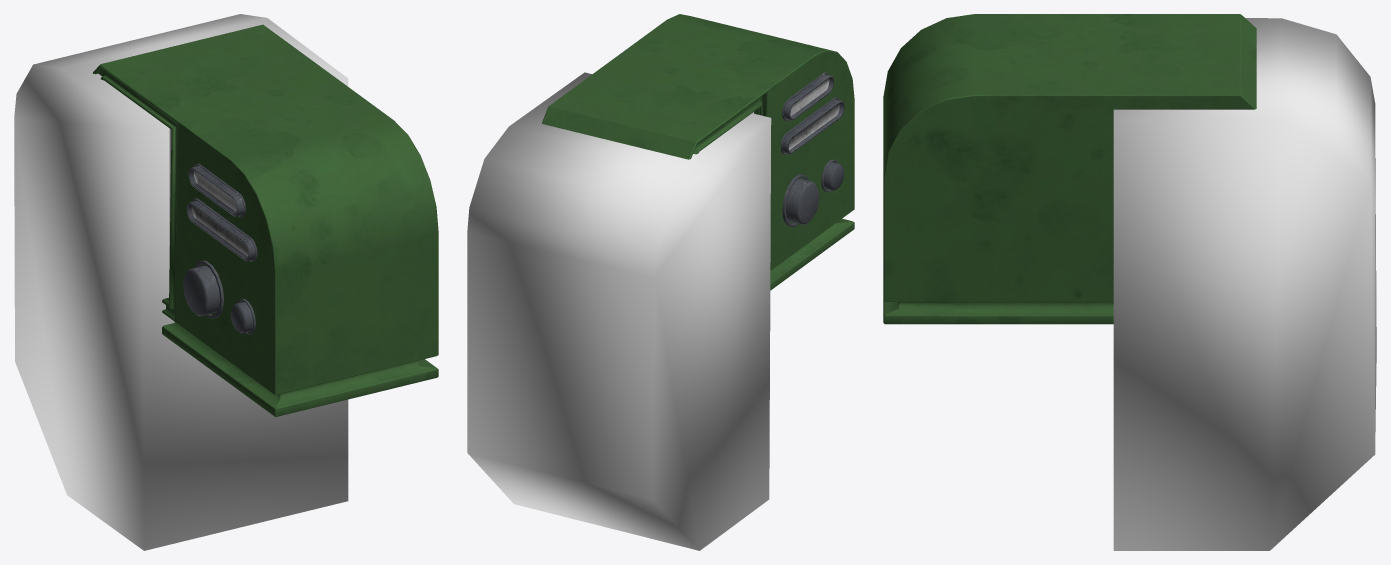
Rendered from SM_Radio.fbx.
The picture shows the model from 3 angles, left to right: view 1: azimuth 30°, elevation 25°; view 2: azimuth 150°, elevation 25°; view 3: azimuth 270°, elevation 25°; orthographic projection. The views are drawn at different scales.
Parts seen in each view (by area): view 1: SM_Radio_ConvexHulls, SM_Radio; view 2: SM_Radio_ConvexHulls, SM_Radio; view 3: SM_Radio_ConvexHulls, SM_Radio.
Part boxes in pixels (x1,y1,x2,y2): SM_Radio_ConvexHulls: (14,14,348,550); SM_Radio: (93,24,438,417); SM_Radio_ConvexHulls: (467,72,771,550); SM_Radio: (542,14,854,290); SM_Radio_ConvexHulls: (1113,18,1376,550); SM_Radio: (883,14,1256,324).
Size of the model in its own units: 0.2145 by 0.4316 by 0.4331.
